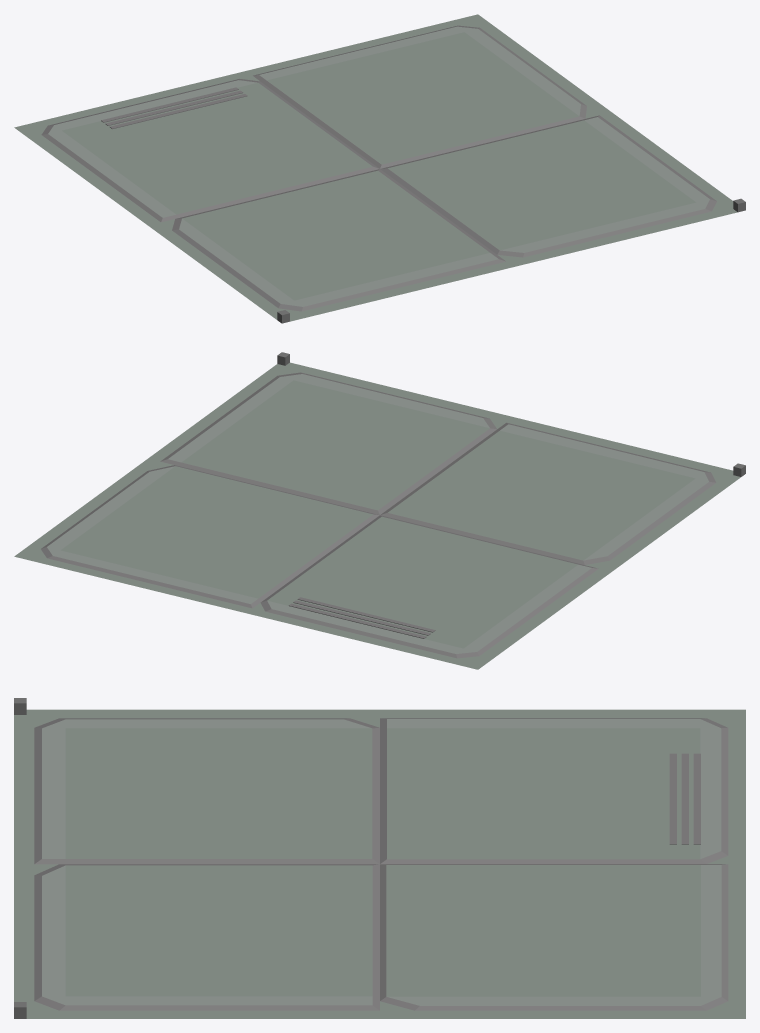
File: EmptyFork_D.gltf
3 views of the same model, one above another, from view 1: azimuth 30°, elevation 25°; view 2: azimuth 150°, elevation 25°; view 3: azimuth 270°, elevation 25° (orthographic). The views are drawn at different scales.
Visible parts, largest first — view 1: Scifi_Panel_03 Plaza014_group4.005; view 2: Scifi_Panel_03 Plaza014_group4.005; view 3: Scifi_Panel_03 Plaza014_group4.005.
Part boxes in pixels (x1,y1,x2,y2): Scifi_Panel_03 Plaza014_group4.005: (14,14,745,323); Scifi_Panel_03 Plaza014_group4.005: (14,352,745,669); Scifi_Panel_03 Plaza014_group4.005: (14,698,745,1018).
Size of the model in its own units: 10 by 0.2305 by 10.
Materials: 1 (1 with a texture image).
